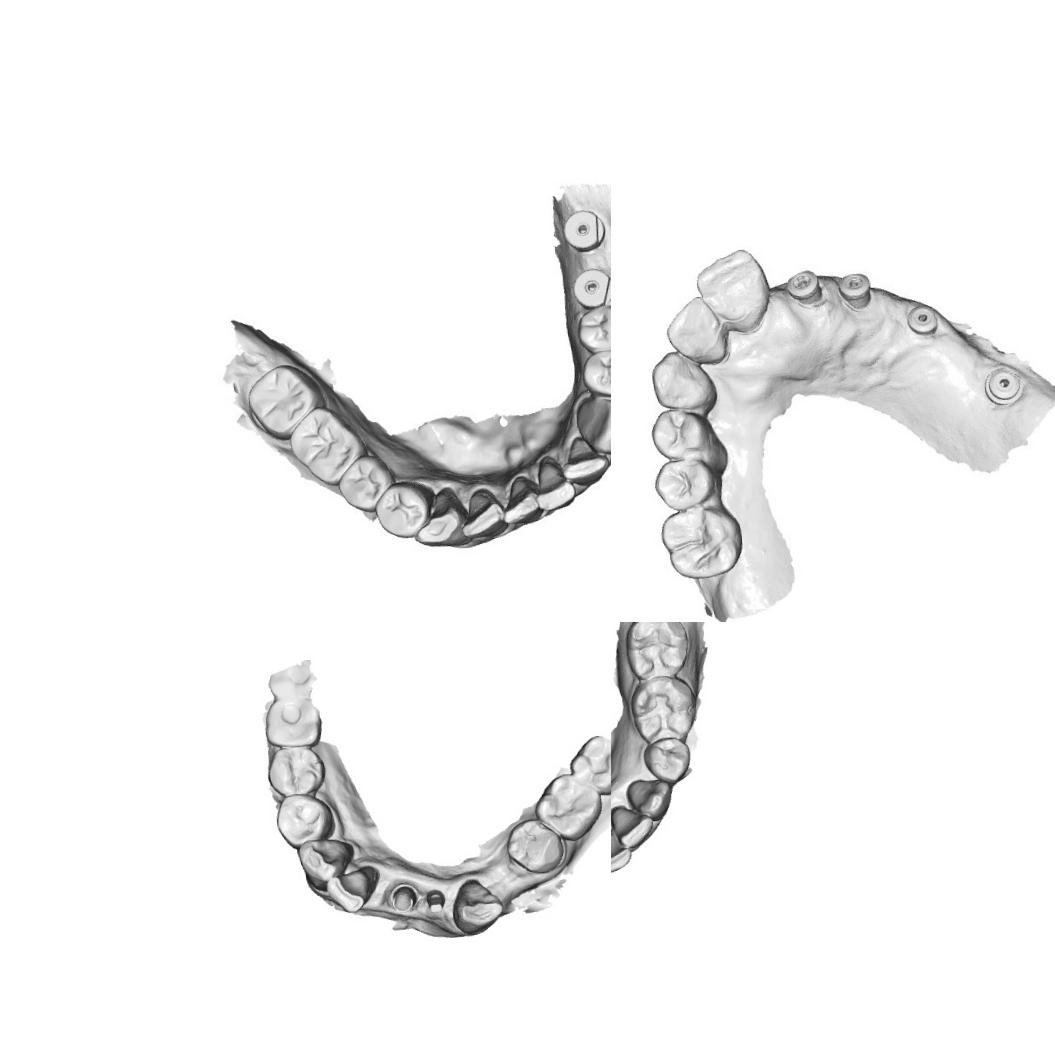abutment: (388, 880, 420, 914), (424, 886, 446, 914)
canine: (408, 486, 471, 550), (654, 358, 720, 413), (449, 875, 505, 935), (296, 836, 356, 892), (573, 393, 611, 457), (626, 776, 674, 823)
implant: (560, 208, 607, 254), (569, 265, 611, 309), (982, 364, 1023, 405), (905, 302, 941, 341)
implant_minus: (838, 272, 872, 312), (784, 266, 820, 302)
incisor: (696, 250, 768, 328), (664, 296, 725, 362), (324, 864, 382, 914), (558, 434, 610, 487), (531, 452, 576, 512), (459, 486, 508, 540), (500, 473, 544, 525), (611, 803, 655, 850), (611, 816, 632, 873)
molar: (285, 402, 370, 488), (244, 360, 327, 443), (627, 672, 700, 746), (531, 770, 604, 843), (662, 507, 738, 576), (621, 622, 692, 682), (262, 694, 324, 748), (566, 731, 611, 797)
premolar: (335, 452, 397, 515), (373, 478, 436, 540), (504, 816, 566, 876), (273, 790, 335, 850), (649, 405, 712, 464), (264, 743, 327, 797), (652, 460, 714, 510), (640, 734, 693, 786), (575, 302, 611, 354), (579, 347, 611, 400)
